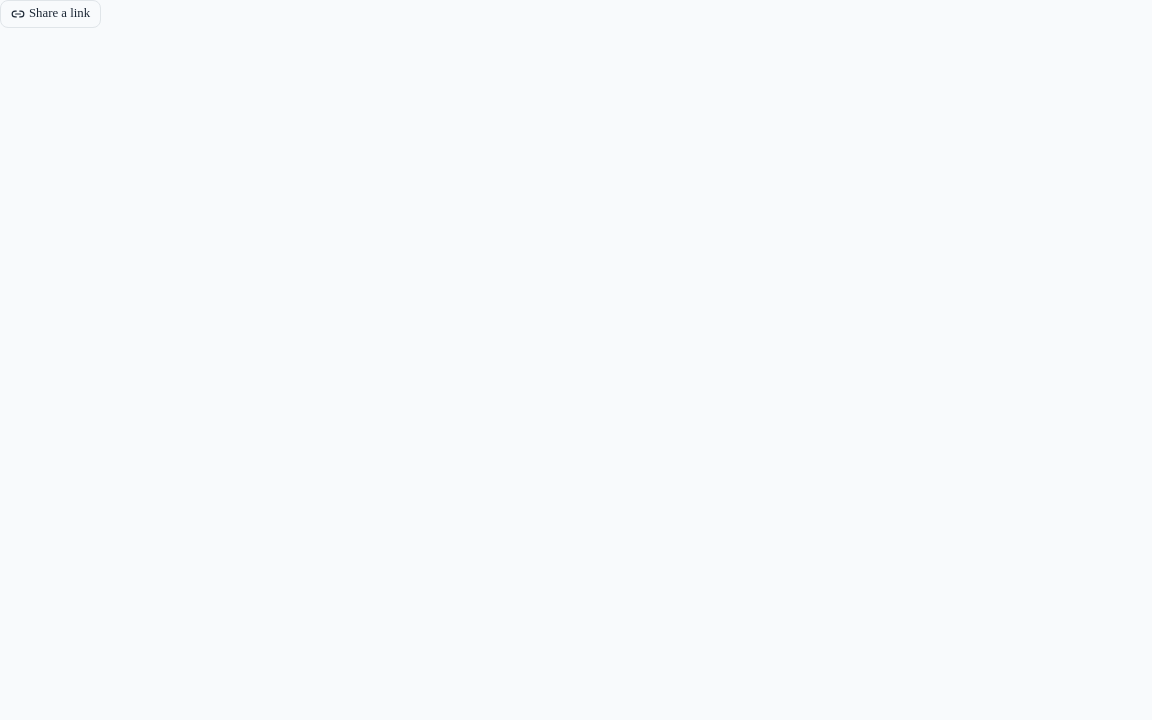
Scenario: ShareLinkButton › warns before an exclusion empties the results table (Stage 4, S16)
Click the button "Share a link": (51,14) [0,0,101,28]
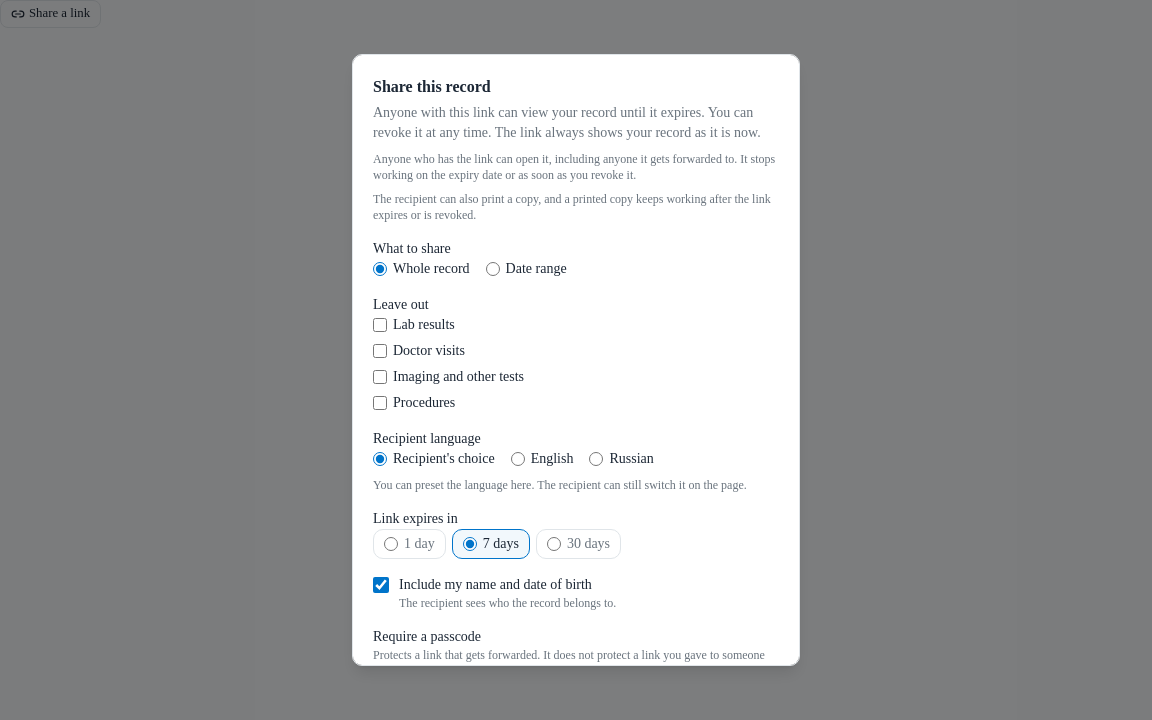
Click the checkbox with test id "share-exclude-blood_test": (380,325) [373,318,387,332]
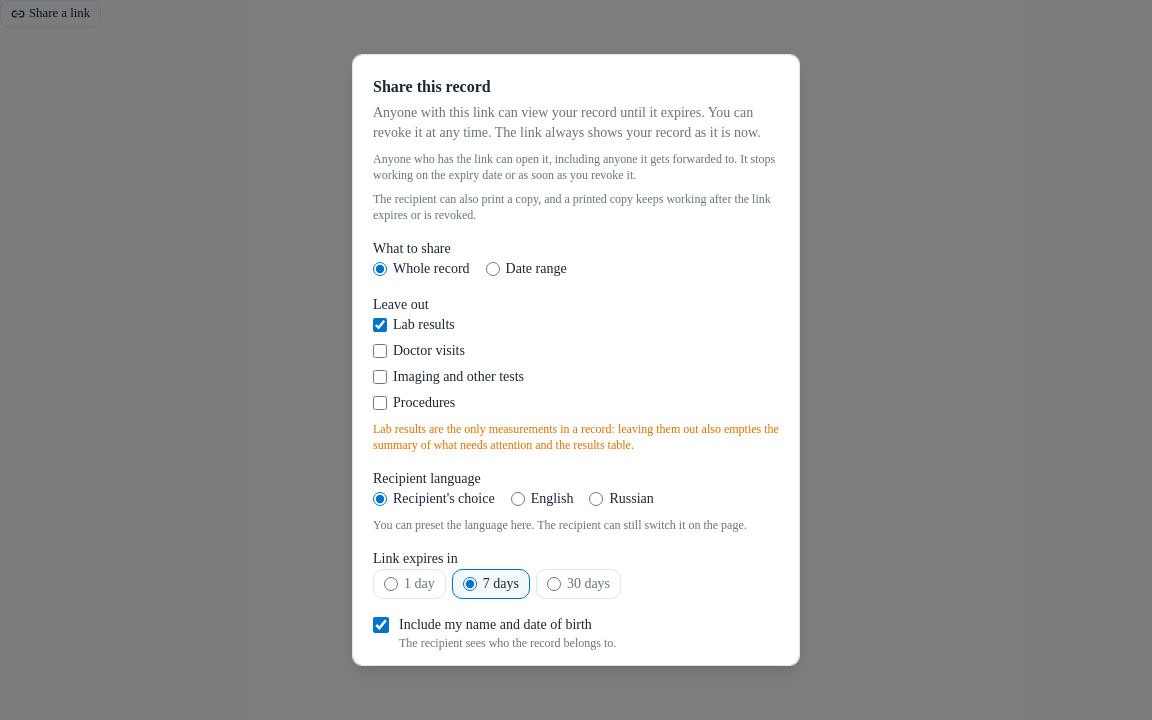
expect the message with test id "share-exclude-warning" is shown: met, box [373,421,779,453]
Click the checkbox with test id "share-exclude-blood_test": (380,325) [373,318,387,332]
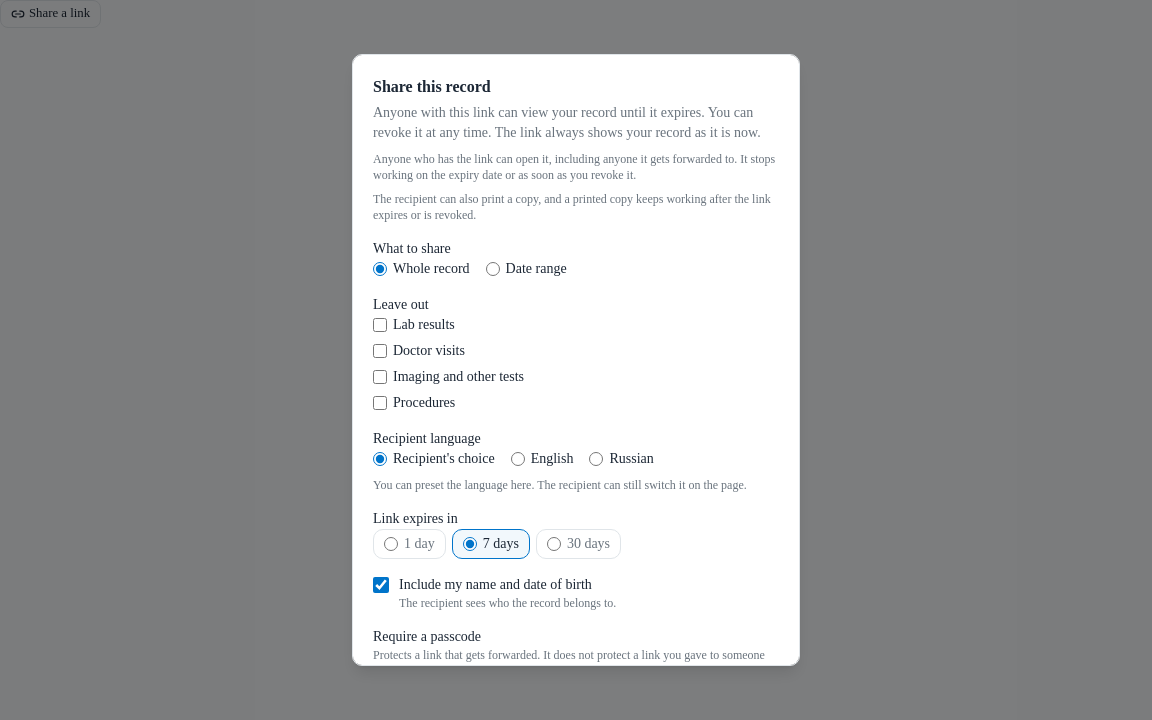
expect the message with test id "share-exclude-warning" is gone: met
